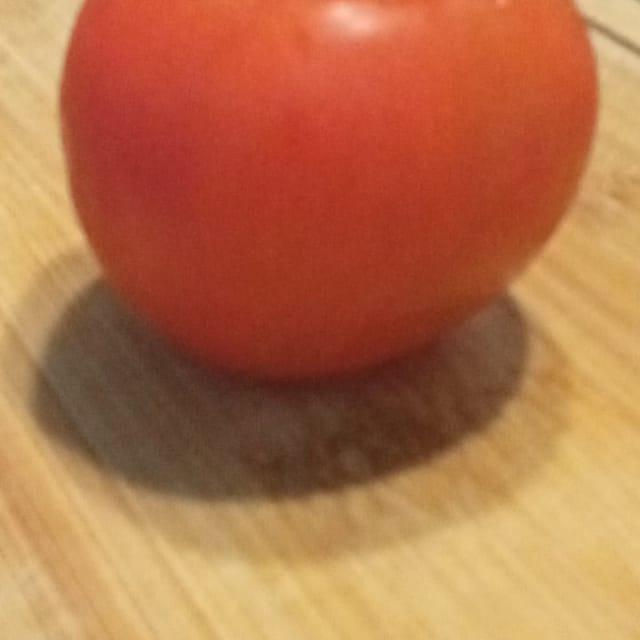tomato: (15, 0, 635, 409)
